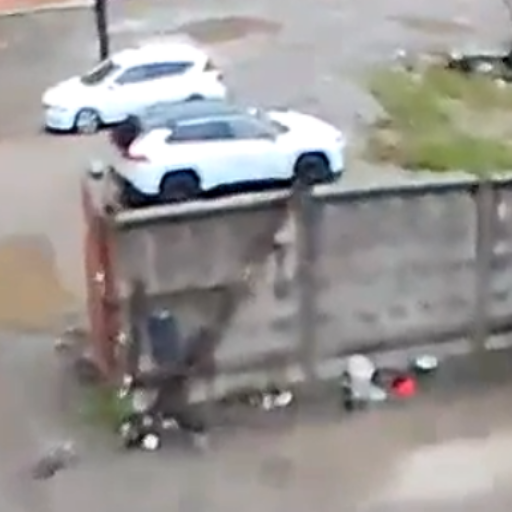Car: (116, 102, 344, 201), (37, 42, 226, 132)
